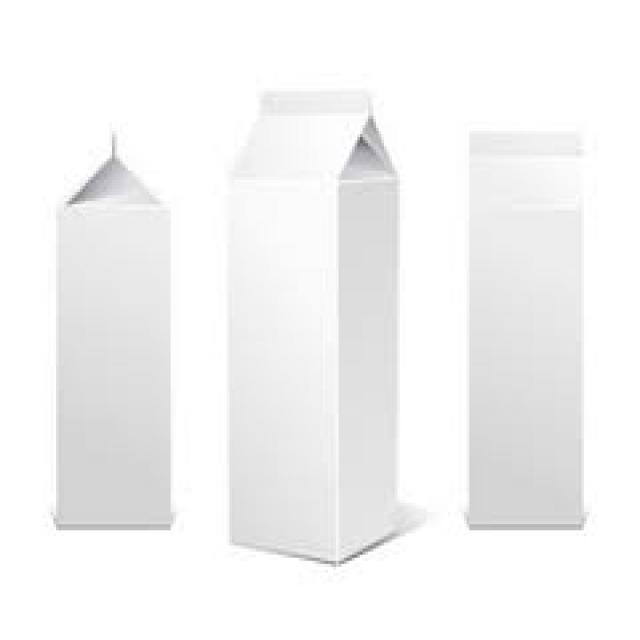non_white_jug: (215, 79, 409, 576), (445, 119, 592, 545), (52, 130, 185, 547)
